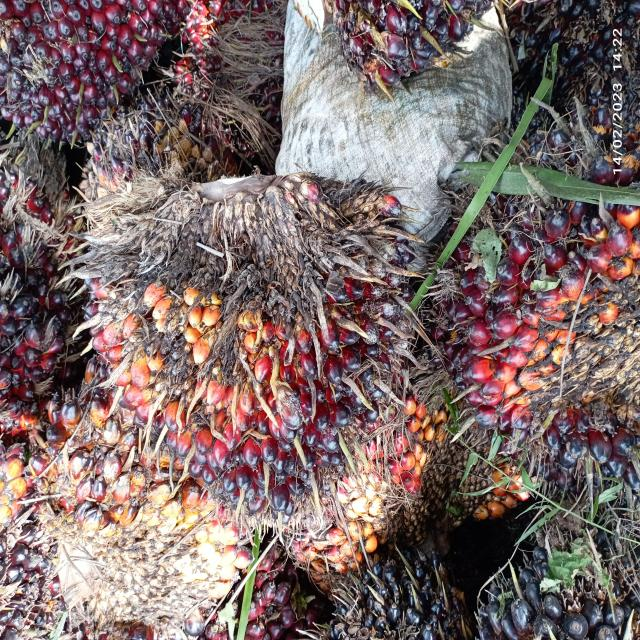fraksi 1: (91, 118, 407, 559), (442, 52, 640, 477)
